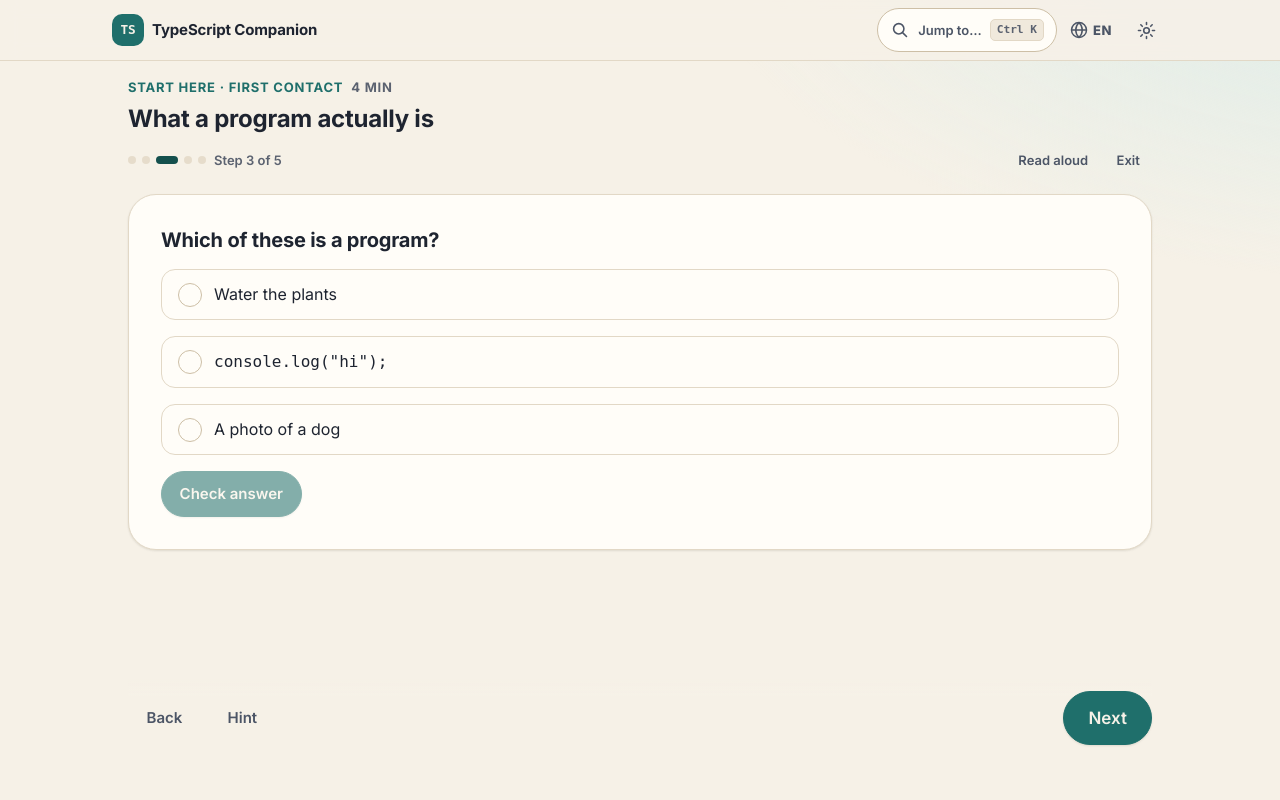
it: switching language keeps the learner exactly where they were › re-words a result already on screen
What coordinates should you click on to do the following:
click the button with class "option" showing "console.log(\"hi\");"
I would click on:
 (301, 361)
Its box is top-left (161, 336), bottom-right (1119, 388).
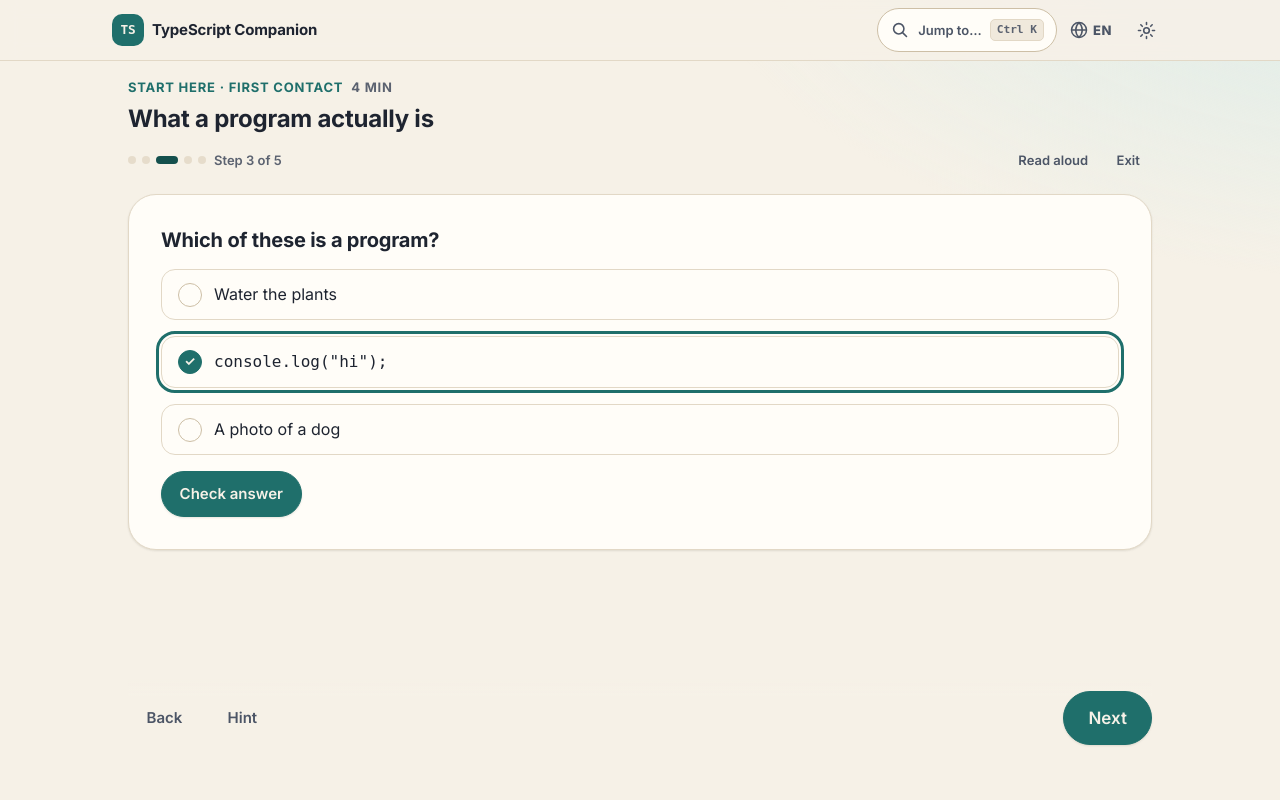
What coordinates should you click on to do the following:
click the button "Check answer"
I would click on:
 (231, 494)
Its box is top-left (161, 471), bottom-right (302, 517).
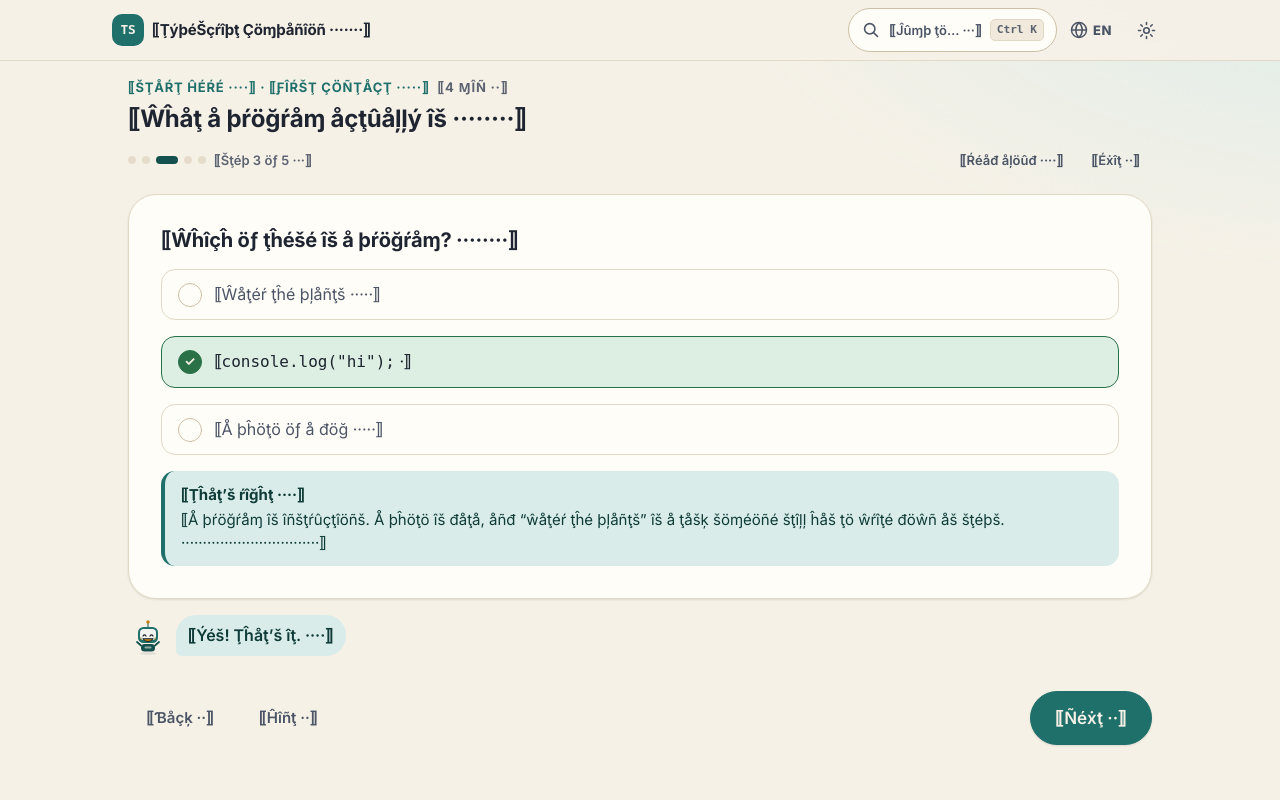
expect the text "⟦Ţĥåţ’š ŕîğĥţ ····⟧" is shown: met, box top-left (181, 485), bottom-right (305, 504)
